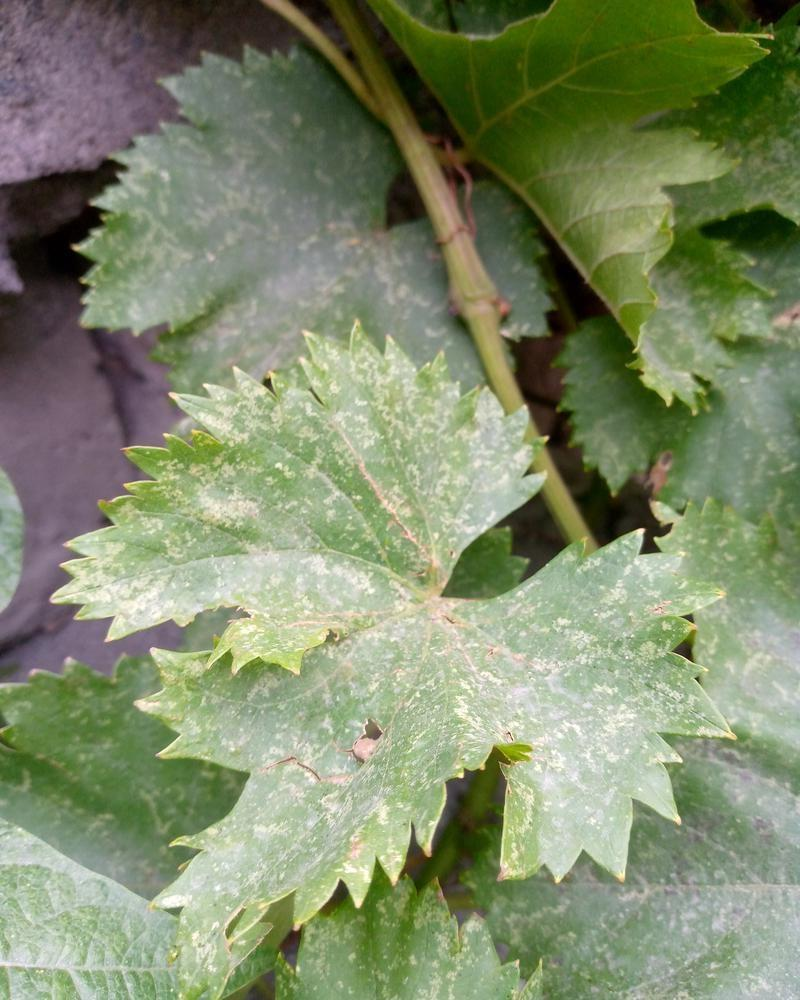Powdery-Mildew: (154, 643, 393, 983), (450, 674, 670, 847), (439, 551, 676, 658), (216, 547, 358, 668), (434, 399, 530, 570), (64, 518, 210, 628), (333, 341, 442, 455), (173, 446, 271, 532), (197, 490, 260, 524)
